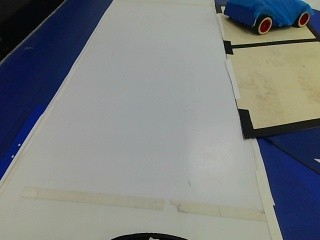car: (220, 0, 318, 41)
